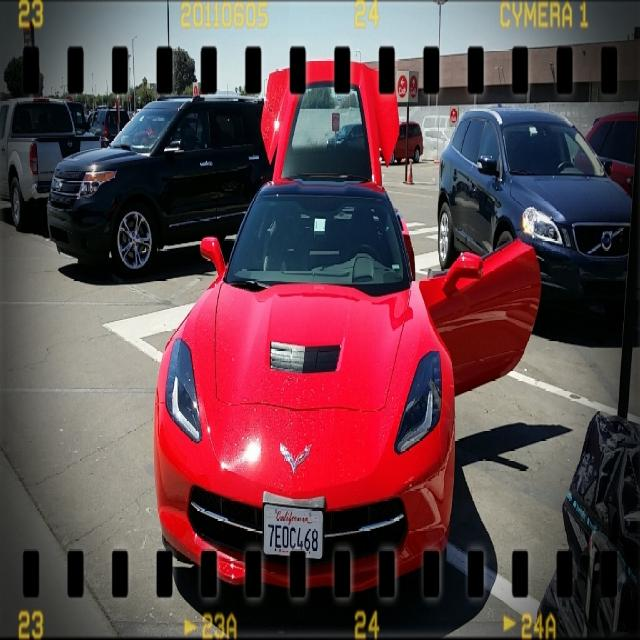car: (142, 109, 470, 610), (435, 102, 636, 318)
